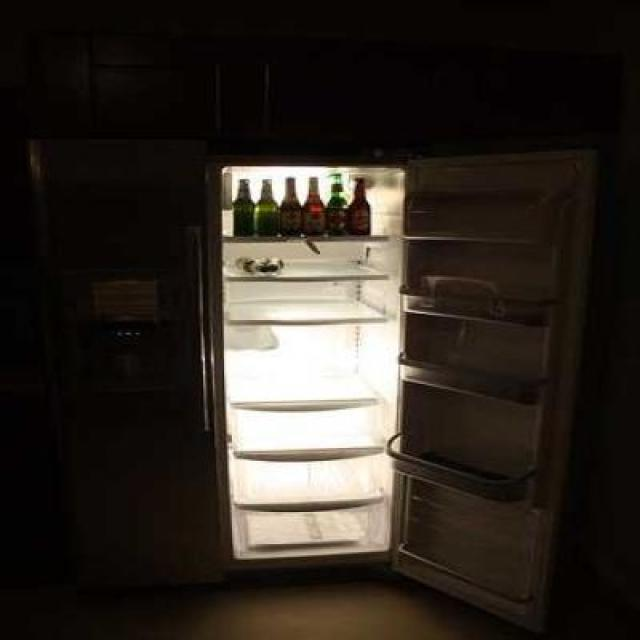refrigerator: (204, 148, 622, 636)
